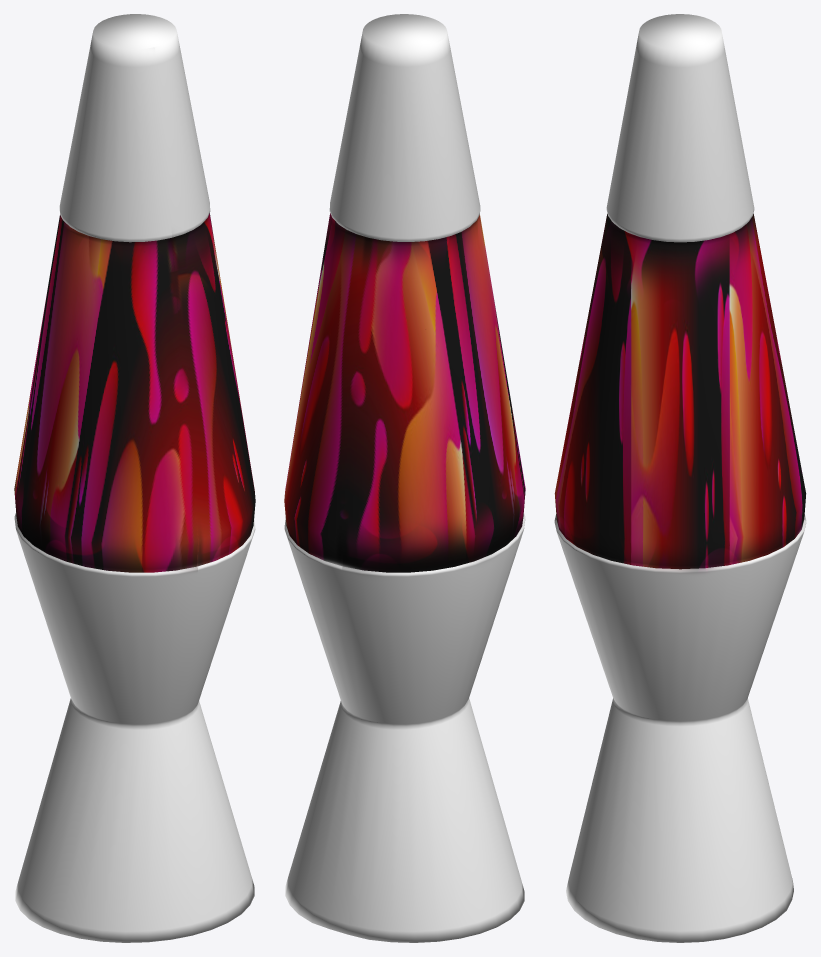
File: lavalamp.fbx
The picture shows the model from 3 angles, left to right: view 1: azimuth 30°, elevation 25°; view 2: azimuth 150°, elevation 25°; view 3: azimuth 270°, elevation 25°; orthographic projection.
Visible parts, largest first — view 1: LavaLamp_LP; view 2: LavaLamp_LP; view 3: LavaLamp_LP.
Boxes of the visible parts, x1,y1,x2,y2 form: LavaLamp_LP: (14,14,255,942); LavaLamp_LP: (284,14,525,942); LavaLamp_LP: (554,14,806,942).
Bounding box in the file's own units: 0.075 × 0.2927 × 0.0778.
